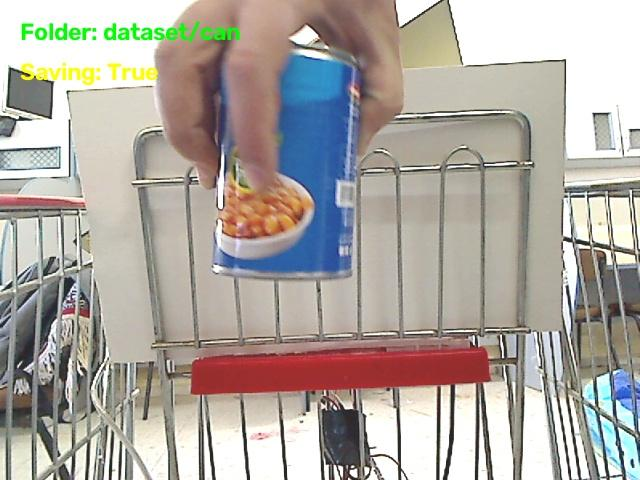can: (213, 46, 360, 278)
